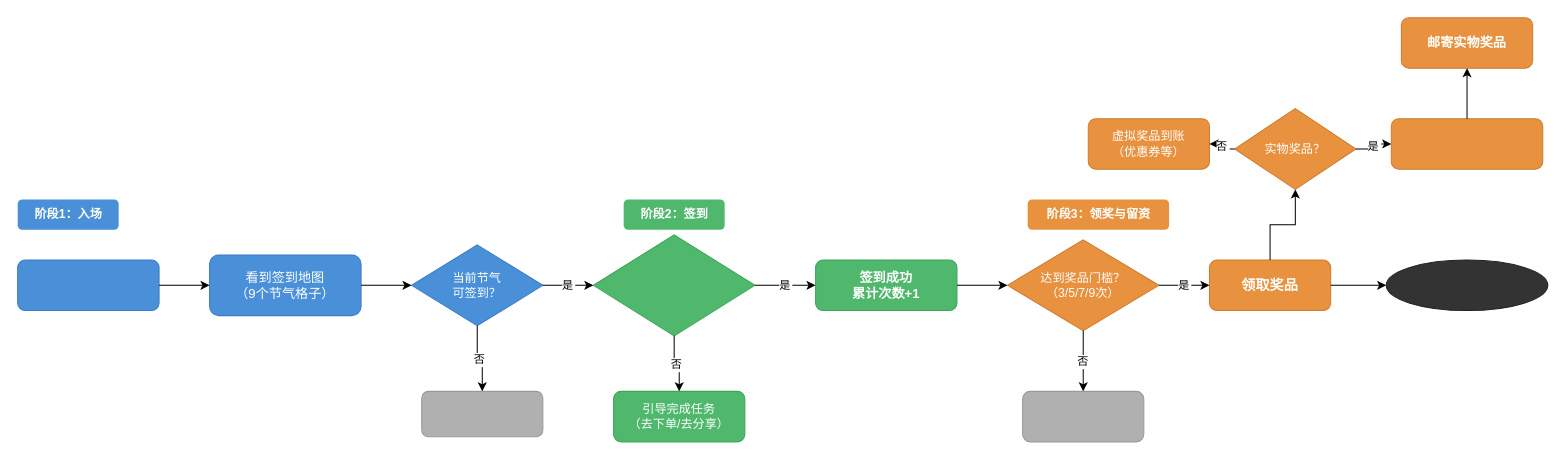
Image size: 1566x460. Some labels were removed from this diagram. The centre of each missing label's shape, as x and y in pixels:
"填写留资 （姓名/电话/地址）" belongs at [1466,143].
"完成前提任务？ （下单≥1 or 分享≥1）" belongs at [673,285].
"等待下一节气" belongs at [482,413].
"结束 / 等待下一节气" belongs at [1466,285].
"继续等待 下一节气签到" belongs at [1083,416].
"进入会场" belongs at [88,285].
